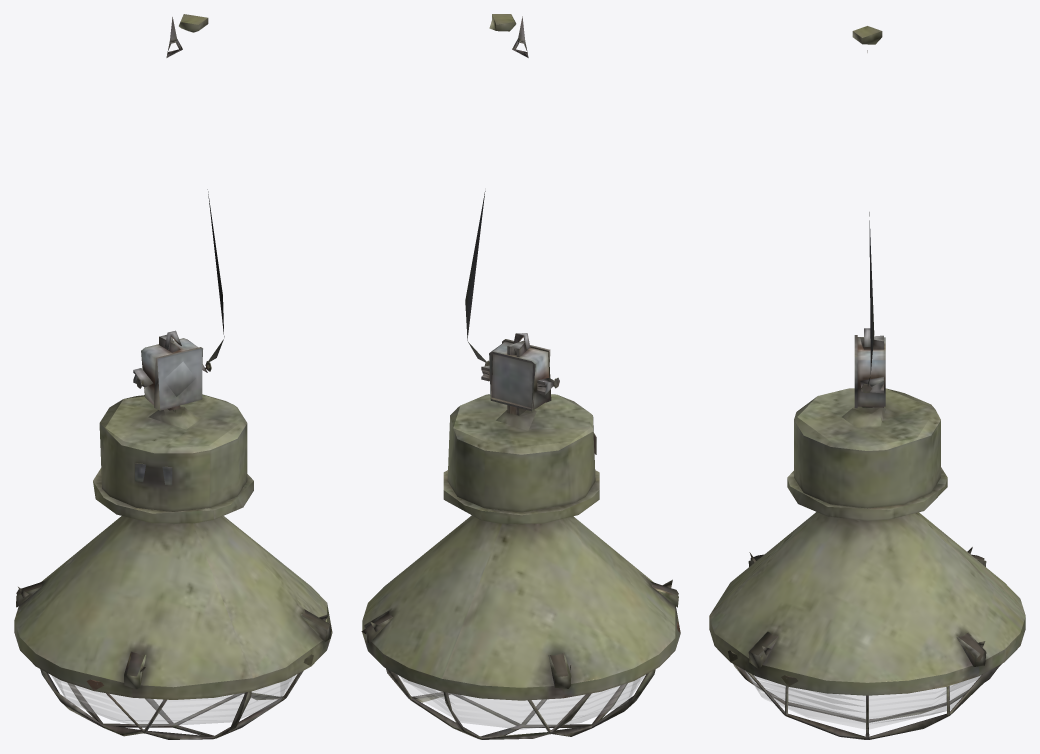
File: hanging_industrial_lamp.gltf
The picture shows the model from 3 angles, left to right: view 1: azimuth 30°, elevation 25°; view 2: azimuth 150°, elevation 25°; view 3: azimuth 270°, elevation 25°; orthographic projection.
Parts seen in each view (by area): view 1: hanging_industrial_lamp; view 2: hanging_industrial_lamp; view 3: hanging_industrial_lamp.
Boxes of the visible parts, x1,y1,x2,y2 form: hanging_industrial_lamp: (14, 14, 332, 739); hanging_industrial_lamp: (361, 14, 680, 739); hanging_industrial_lamp: (709, 26, 1025, 739).
Bounding box in the file's own units: 0.5496 × 1.36 × 0.5496.
Materials: 2 (1 with a texture image).
